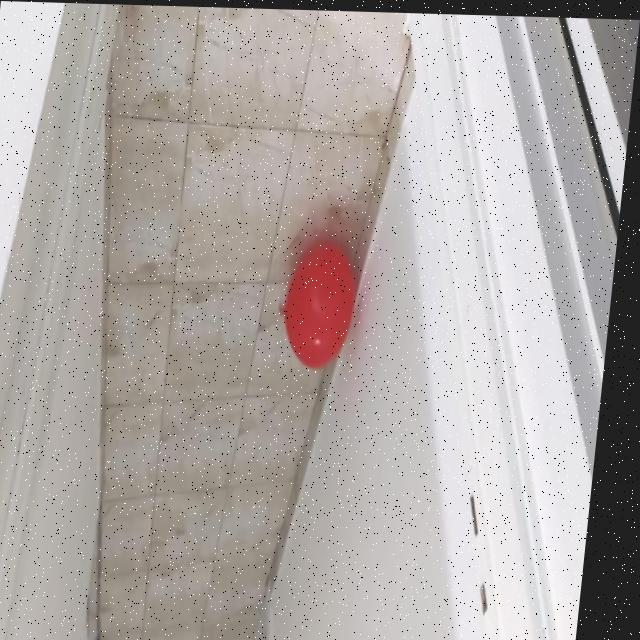balloon: (278, 220, 369, 378)
